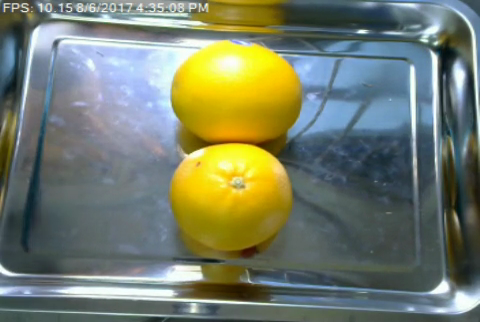Orange: (169, 39, 305, 144), (168, 144, 294, 253)
